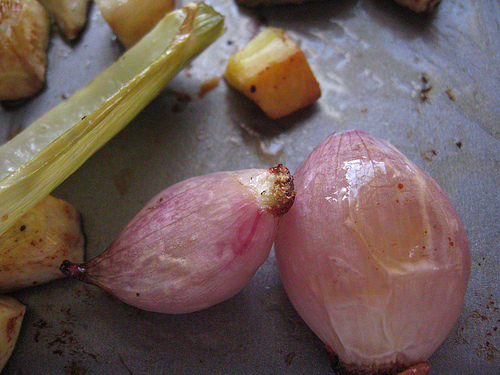onion: (274, 130, 472, 373), (57, 161, 295, 317)
